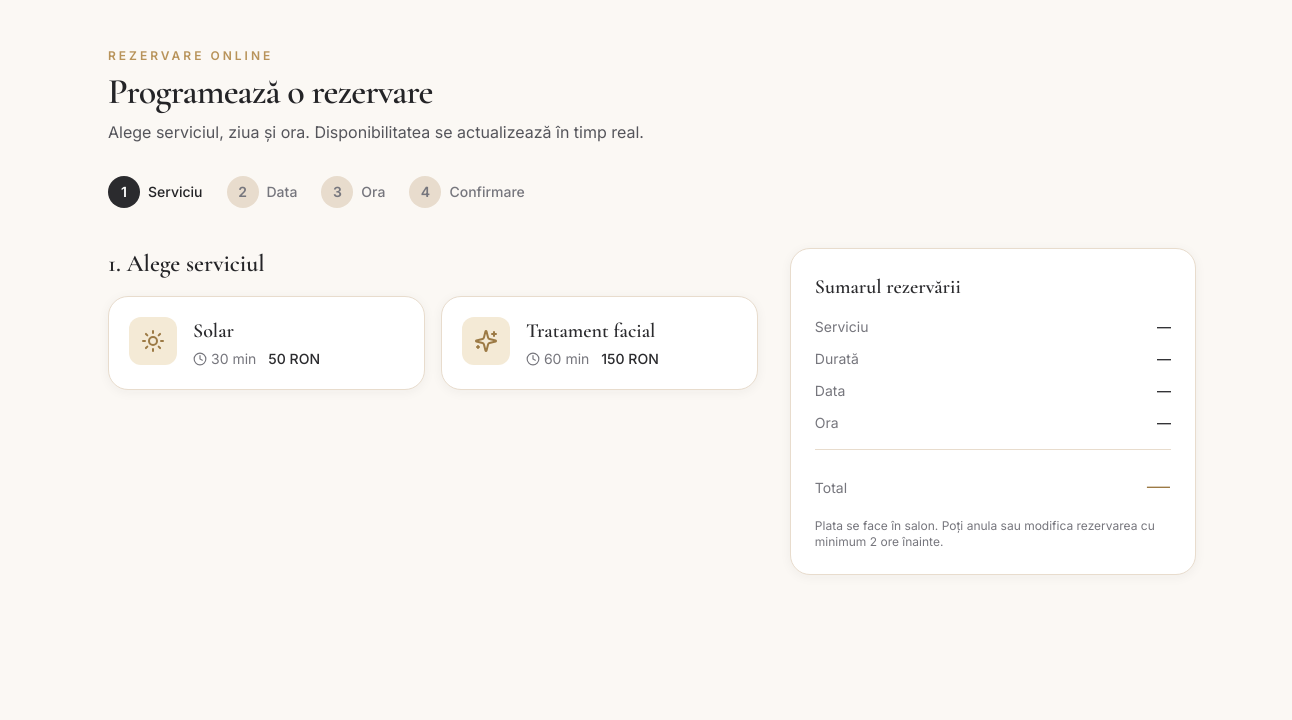
Booking flow › walks through service → date → time → confirmation and creates the reservation
The image size is (1292, 720).
Click the button "Tratament facial 60 min 150 RON" at [599, 343], box [441, 296, 758, 390]
(page scrolled)
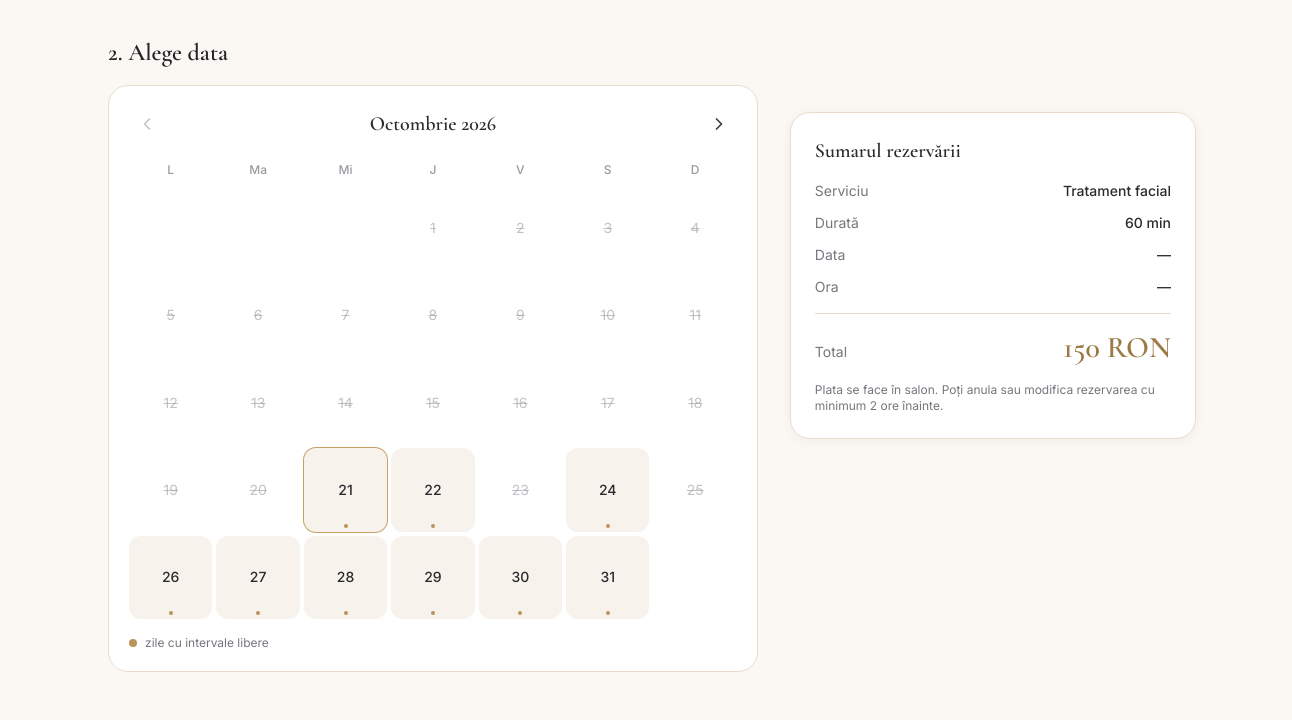
Now the button named "duminică, 25 octombrie 2026" is disabled, box [653, 448, 737, 532]
Now the button named "vineri, 23 octombrie 2026" is disabled, box [479, 448, 562, 532]
Now the button named "marți, 20 octombrie 2026" is disabled, box [216, 448, 300, 532]
Click the button named "joi, 22 octombrie 2026" at [433, 490], box [391, 448, 475, 532]
(page scrolled)
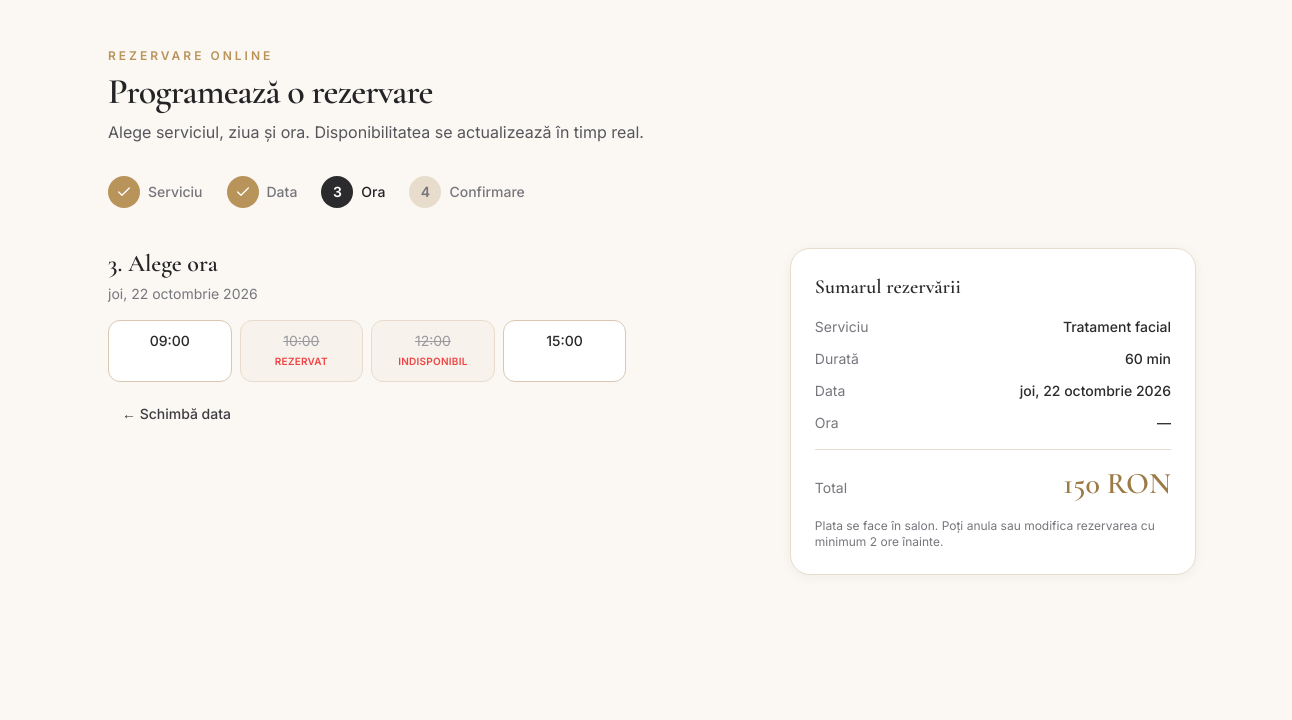
Now the button with aria-label "10:00 – Rezervat" is disabled, box [240, 320, 363, 382]
Now the text "REZERVAT" is shown, box [275, 351, 328, 371]
Now the button with aria-label "12:00 – Indisponibil" is disabled, box [371, 320, 495, 382]
Click the button "15:00" at [564, 351], box [503, 320, 626, 382]
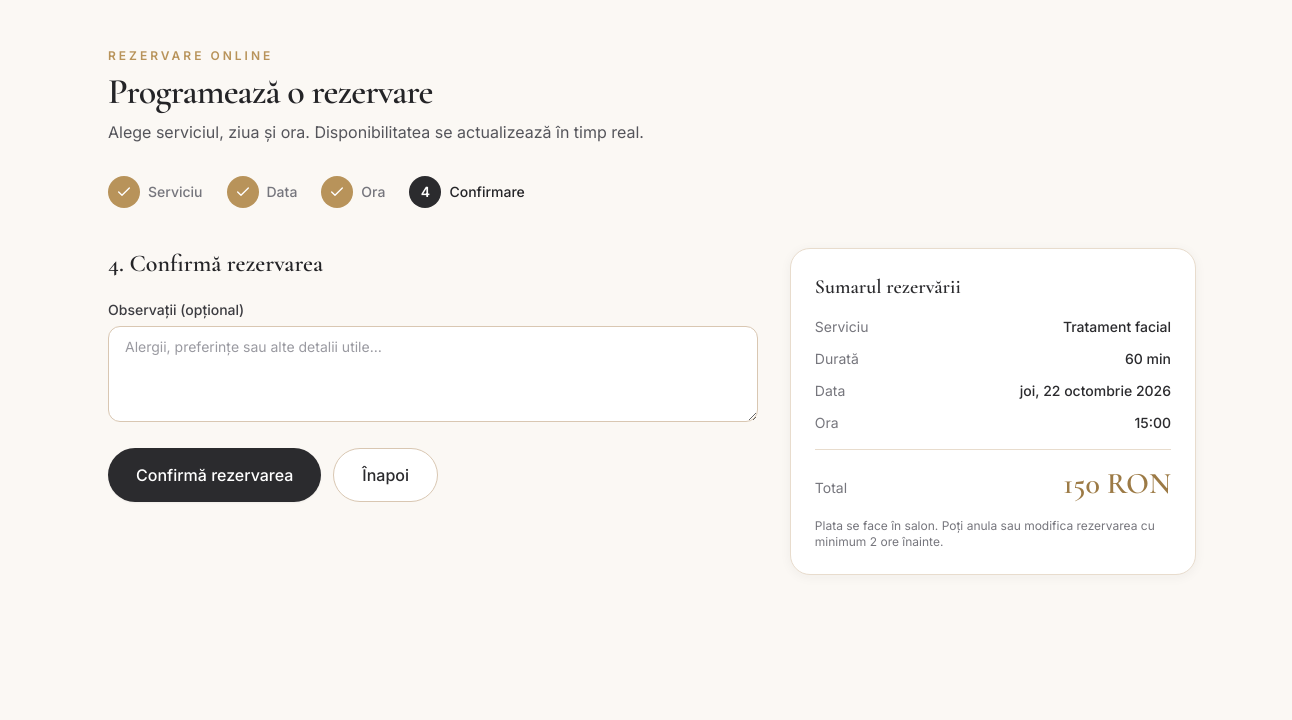
Now the text with test id "total" reads "150 RON", box [1063, 465, 1171, 502]
Now the text "15:00" is shown, box [1134, 413, 1171, 433]
Type "Ten sensibil" into the text box labelled "Observații (opțional)" at [433, 374], box [108, 326, 758, 422]
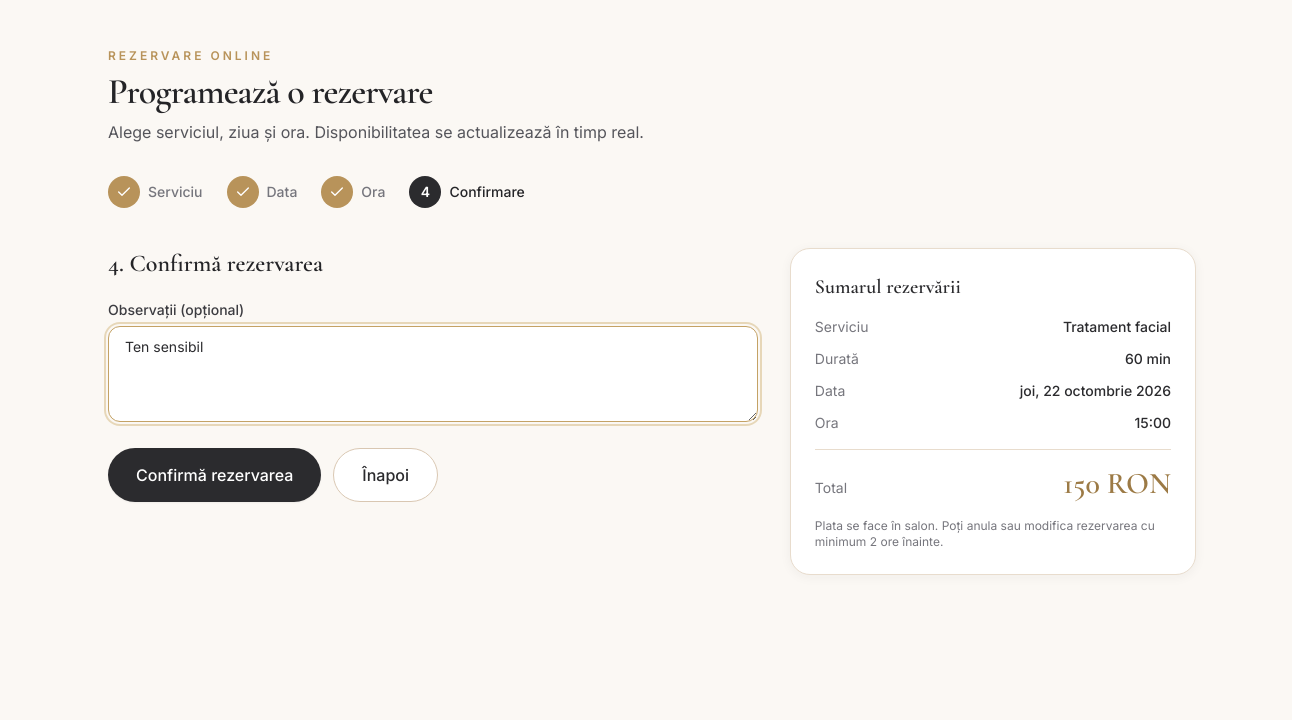
Click the button "Confirmă rezervarea" at [215, 475], box [108, 448, 321, 502]
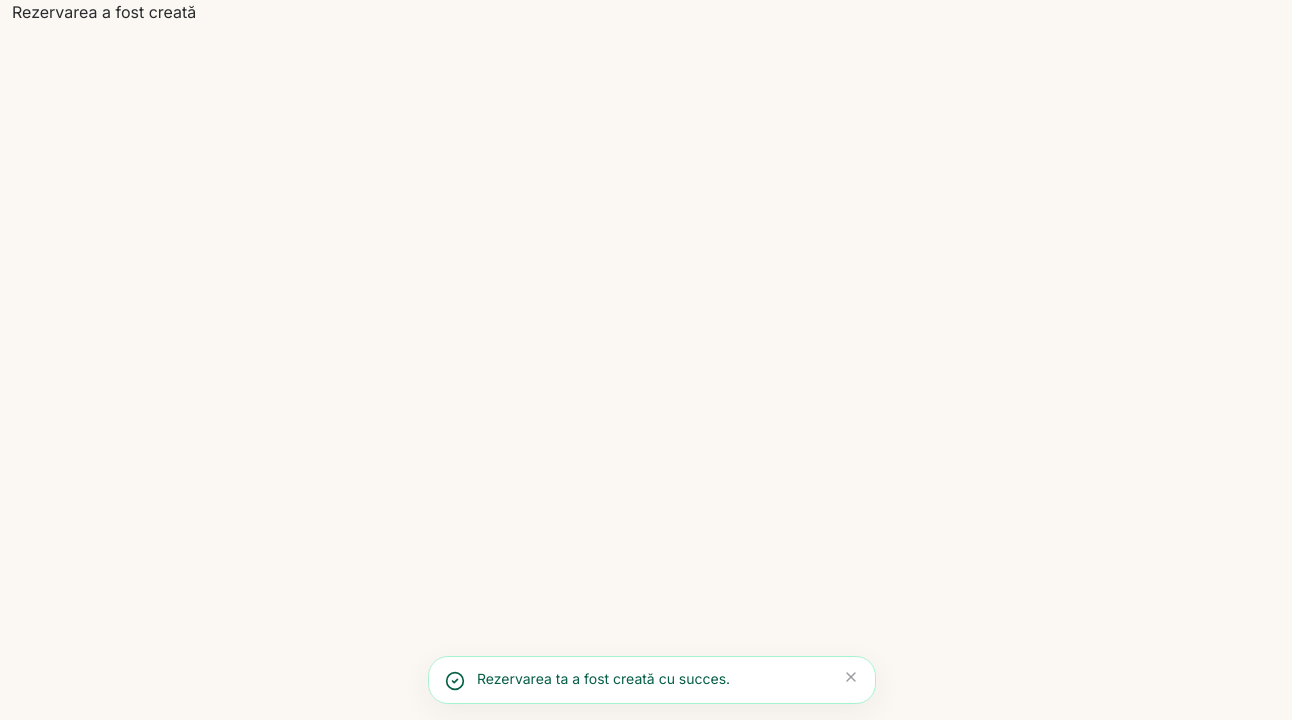
Now the text "Rezervarea a fost creată" is shown, box [12, 2, 196, 22]
